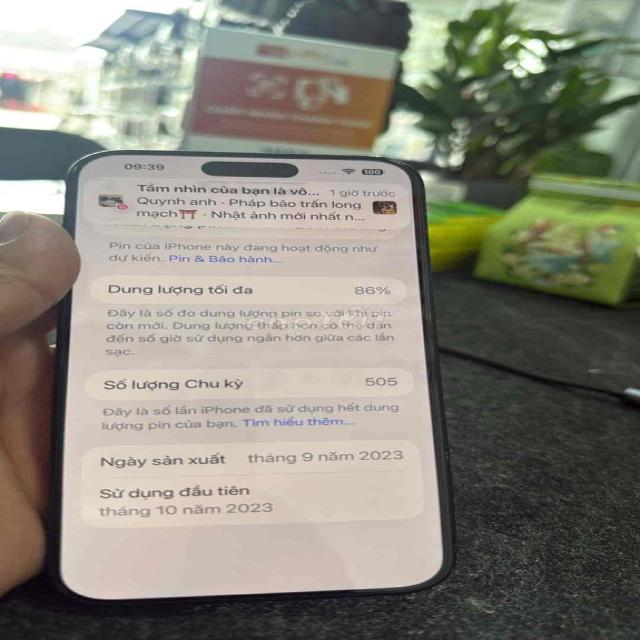gen_15: (36, 128, 460, 603)
